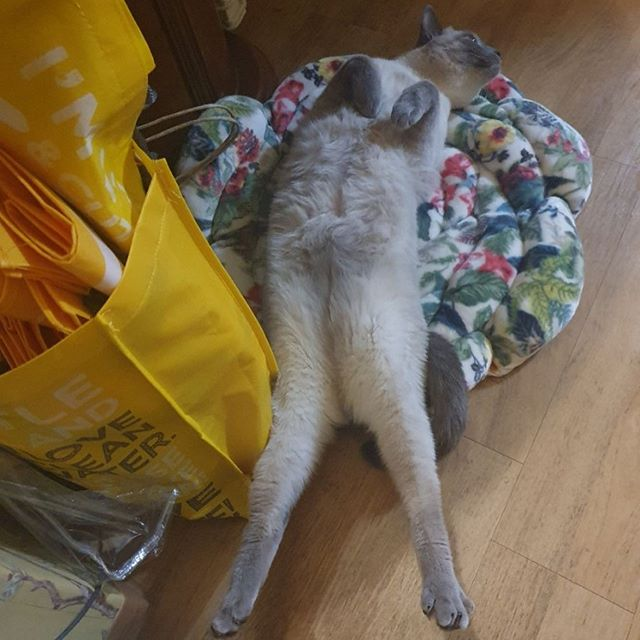cat: (405, 8, 511, 114)
